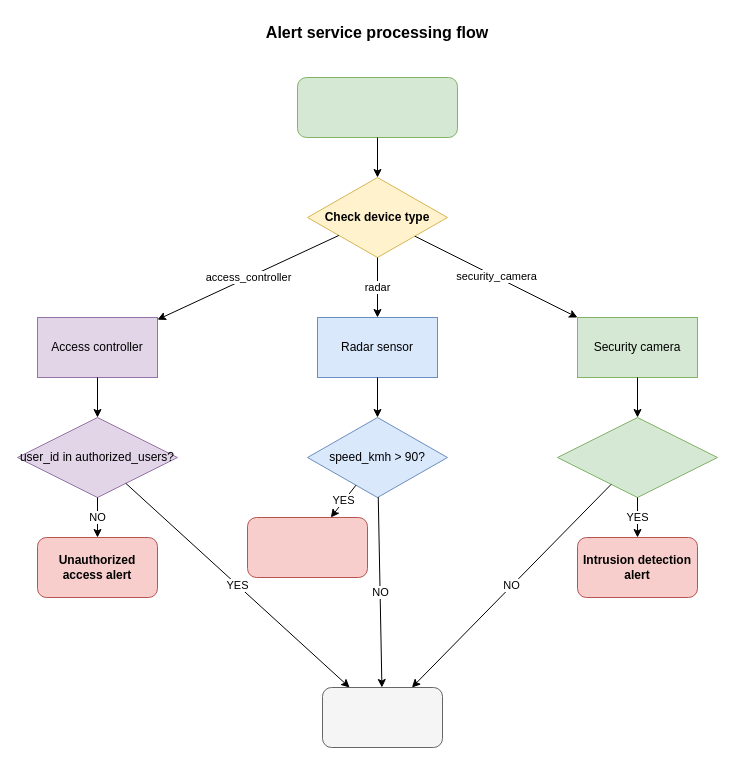
This 735x765 diagram has some shape labels left out. Here are the shapes that lost their labels. From the top down, the centre of each, then its label:
At (x=377, y=107): "Event received from RabbitMQ".
At (x=637, y=457): "Restricted zone AND After hours?".
At (x=307, y=547): "Speed violation alert".
At (x=382, y=717): "No alert g enerated".
